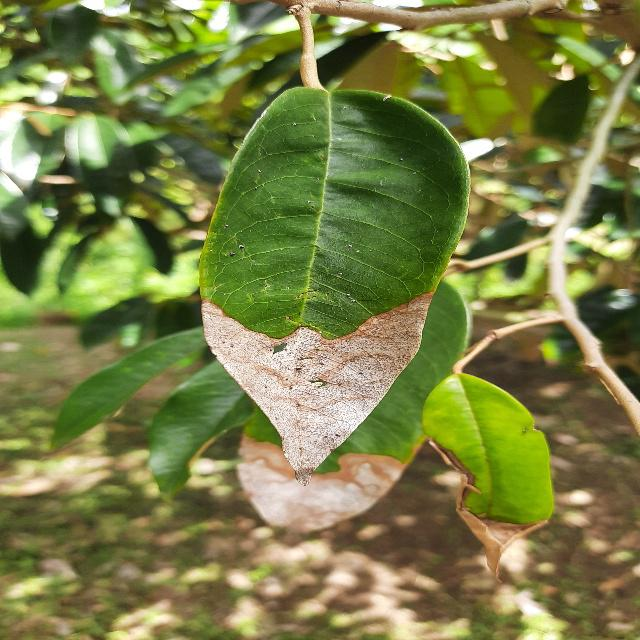Leaf Blight: (191, 79, 475, 543)
